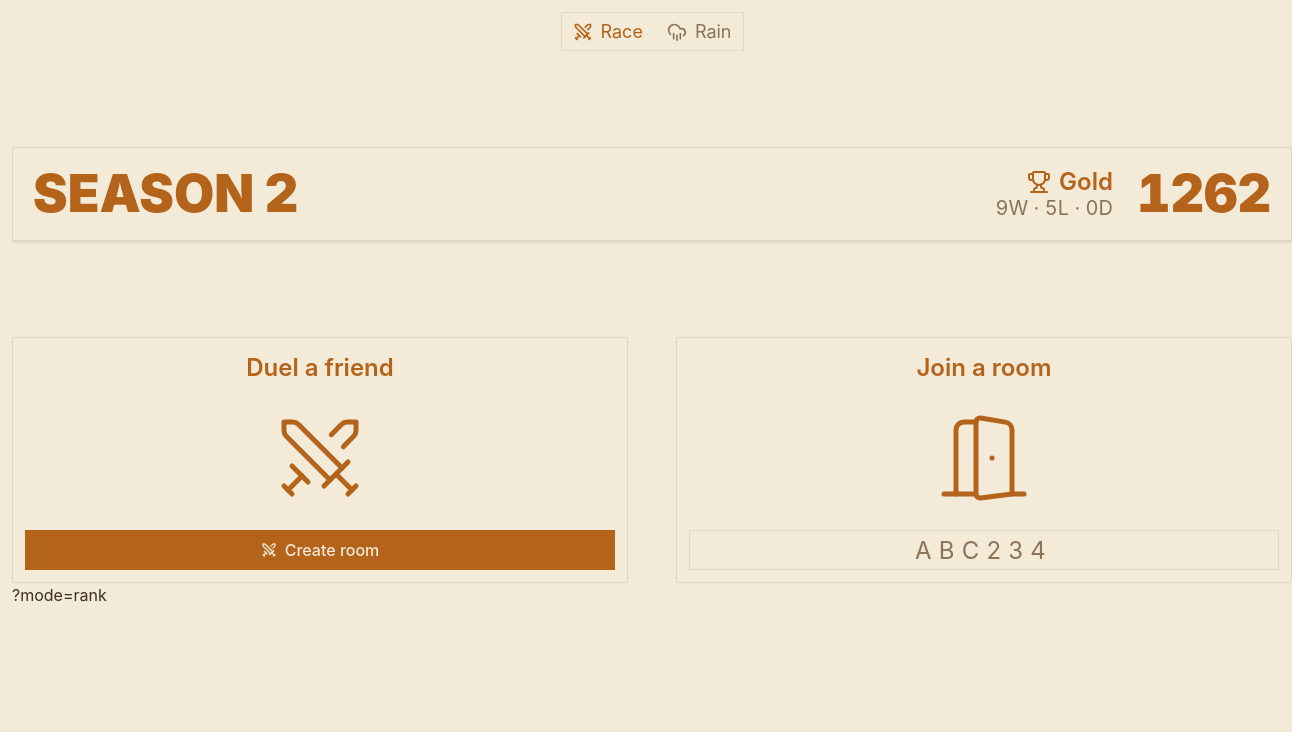
Test: RankMode (ranked duel, phase 4) › says what a duel is in a tooltip on the title, not in a line of its own
Expected: the text "You both type the same English passage" is not shown
Hover over the text "Duel a friend" at (320, 368), box [246,353,394,382]
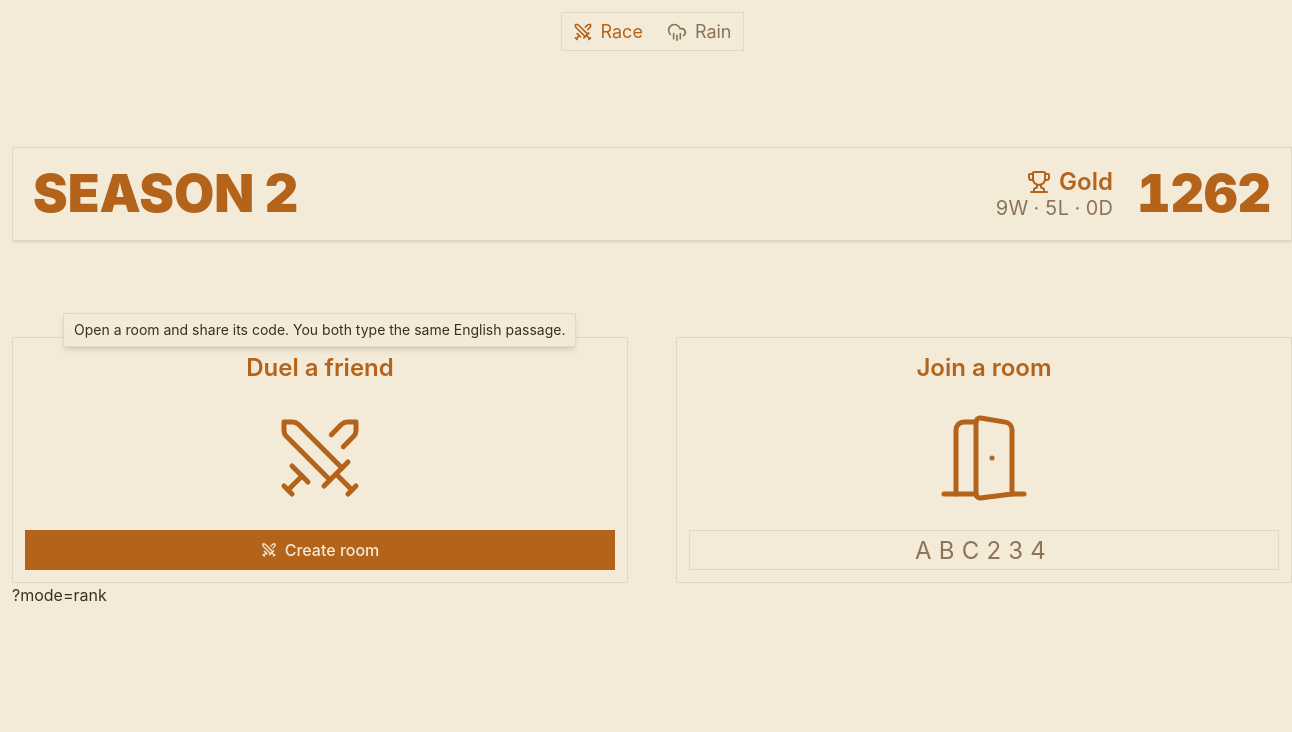
Now the tooltip reads "Open a room and share its code. You both type the same English passage.", box [74,321,566,338]
